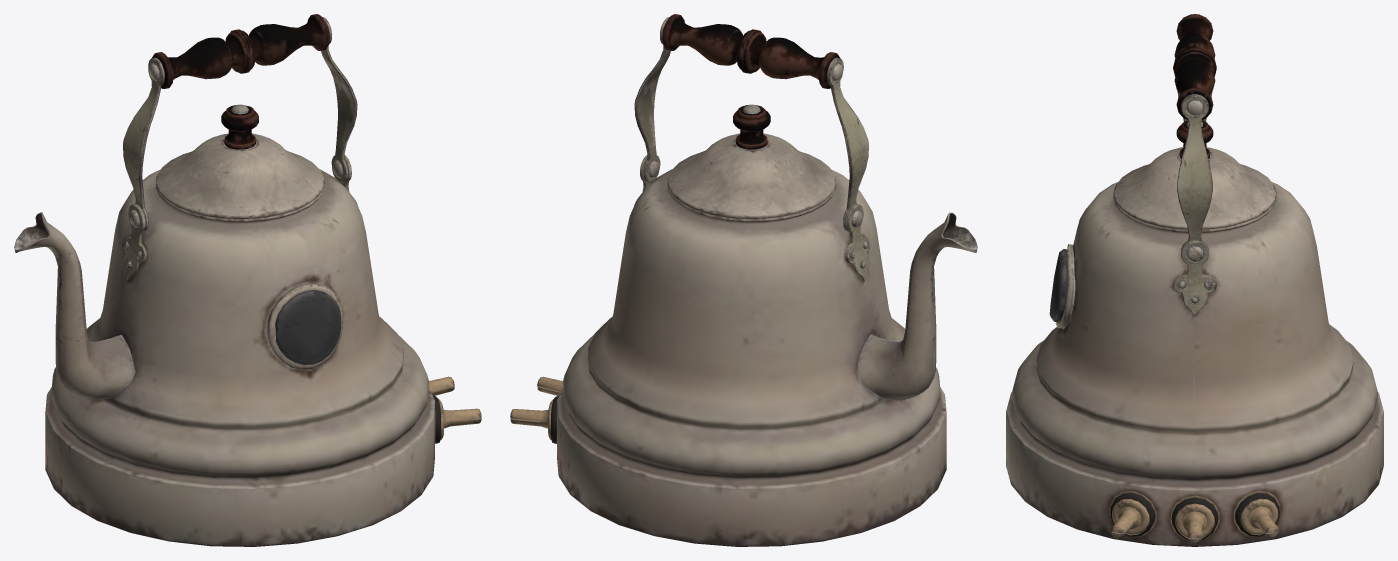
The model's file is vintage_electric_kettle.glb.
The picture shows the model from 3 angles, left to right: view 1: azimuth 30°, elevation 25°; view 2: azimuth 150°, elevation 25°; view 3: azimuth 270°, elevation 25°; orthographic projection. The views are drawn at different scales.
Visible parts, largest first — view 1: vintage_electric_kettle; view 2: vintage_electric_kettle; view 3: vintage_electric_kettle.
Boxes of the visible parts, <box> form: vintage_electric_kettle: <box>14,14,481,546</box>; vintage_electric_kettle: <box>510,14,977,546</box>; vintage_electric_kettle: <box>1006,14,1383,546</box>.
Size of the model in its own units: 0.3209 by 0.3048 by 0.2486.
2 materials, 2 textured.
